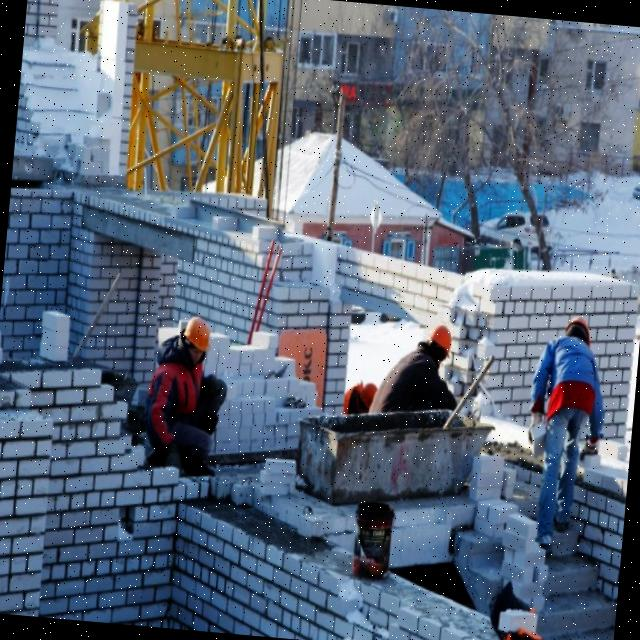Helmet: (182, 318, 214, 354), (426, 325, 455, 360), (356, 382, 377, 409)
NoJacket: (147, 354, 206, 446), (548, 337, 596, 417), (383, 352, 436, 412)
